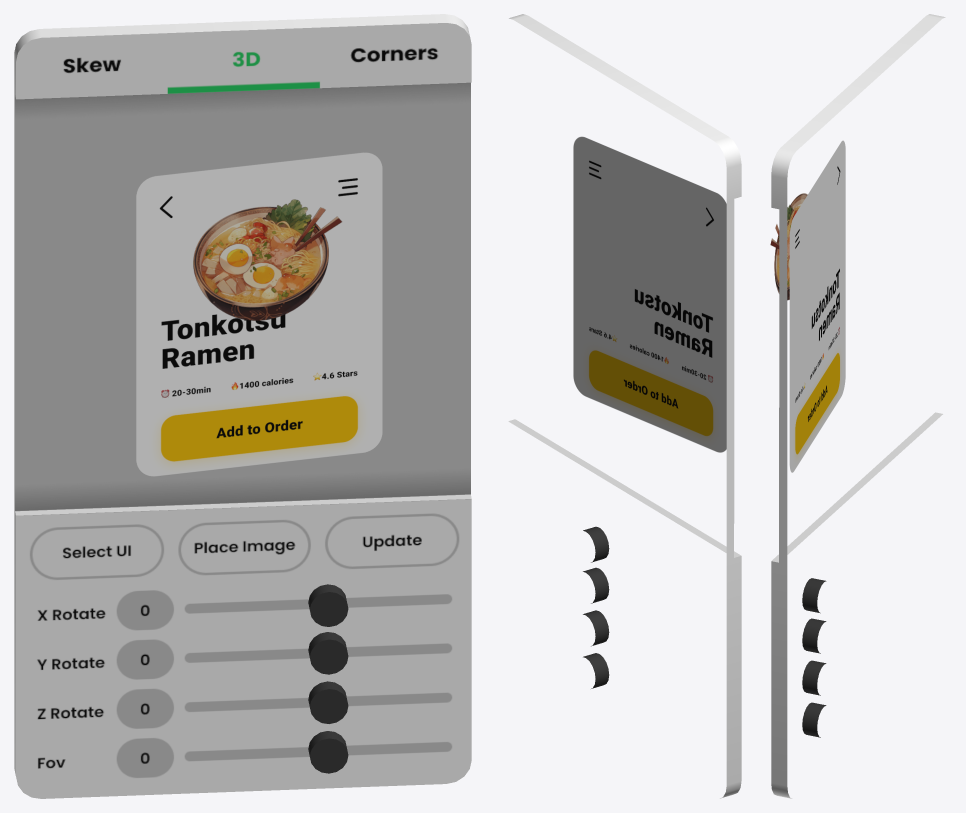
File: PToolkit.gltf
3 views of the same model, side by side, from view 1: azimuth 30°, elevation 25°; view 2: azimuth 150°, elevation 25°; view 3: azimuth 270°, elevation 25° (orthographic). The views are drawn at different scales.
Parts seen in each view (by area): view 1: ptoolkit; view 2: ptoolkit; view 3: ptoolkit.
Part boxes in pixels (x1,y1,x2,y2): ptoolkit: (14, 14, 471, 798); ptoolkit: (508, 14, 741, 798); ptoolkit: (770, 14, 945, 798).
Size of the model in its own units: 1.01 by 2 by 0.5078.
4 materials, 3 textured.
